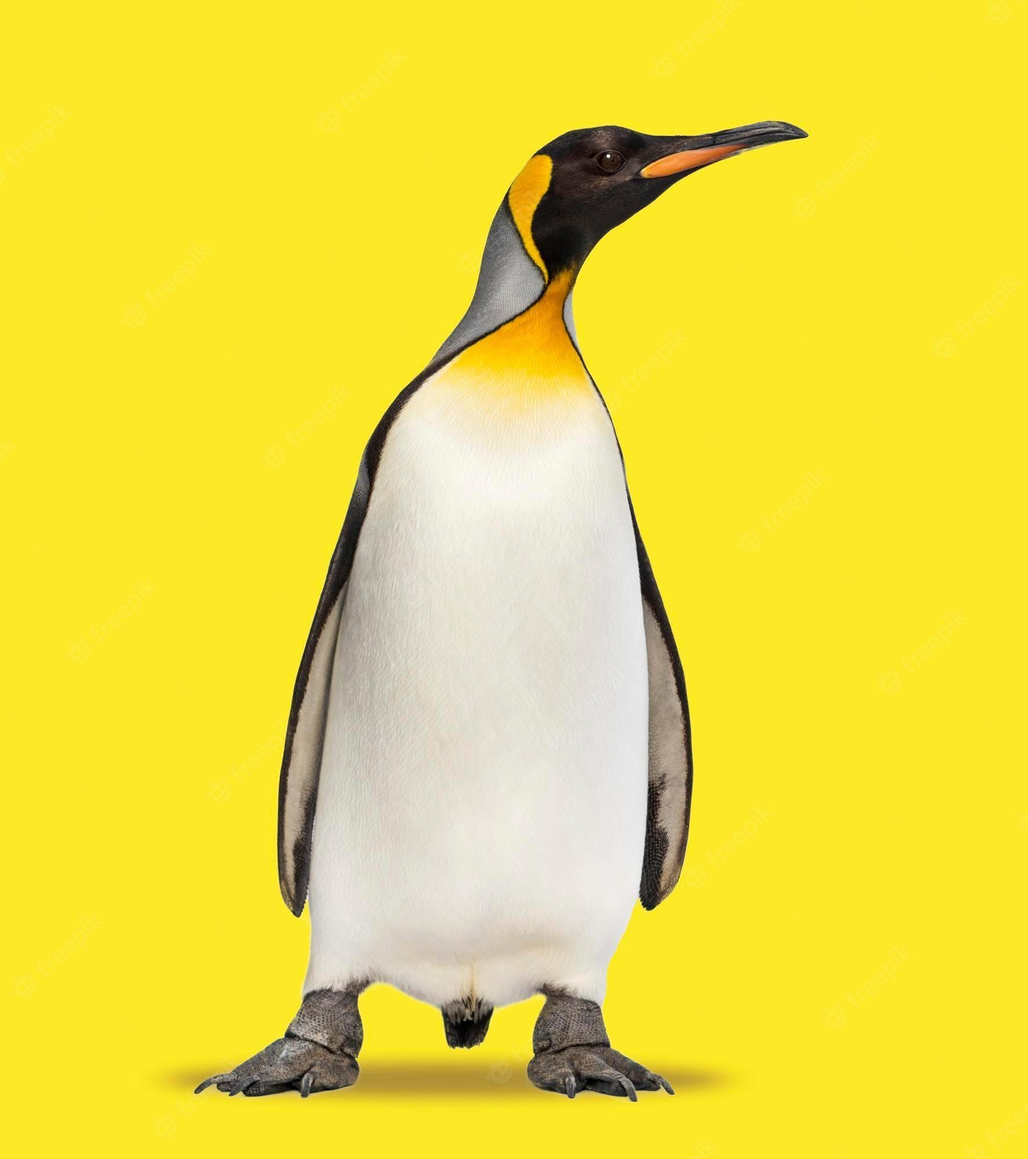Penguin: (197, 122, 805, 1100)
